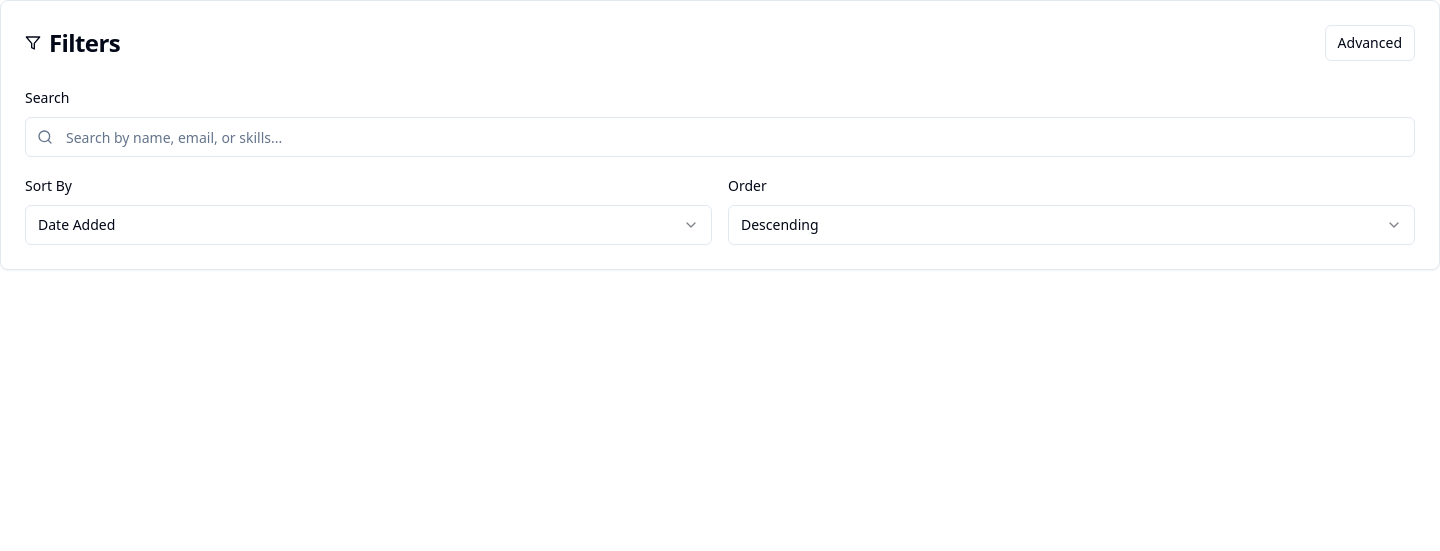
Test: CandidateFilters › clears all filters
Type "test" into the field with placeholder "Search by name, email, or skills...".
click(720, 137); type("test")  # box [25,117,1415,157]
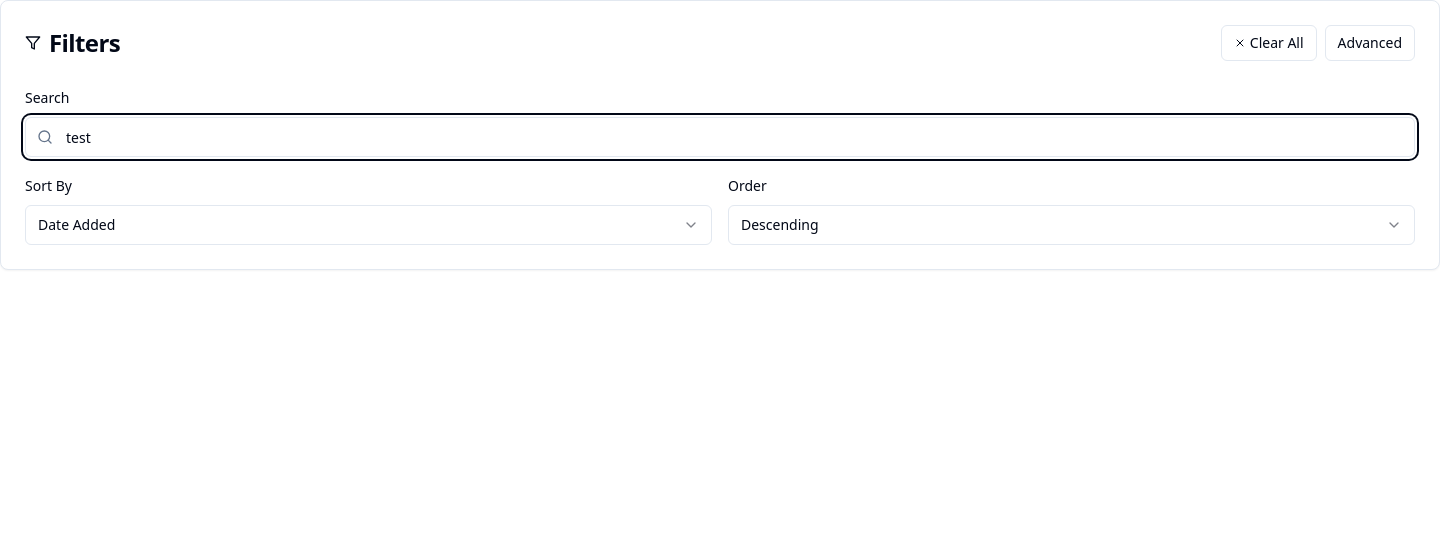
Show advanced filters and add more
Click the button "Advanced".
click(1370, 43)  # box [1325,25,1415,61]
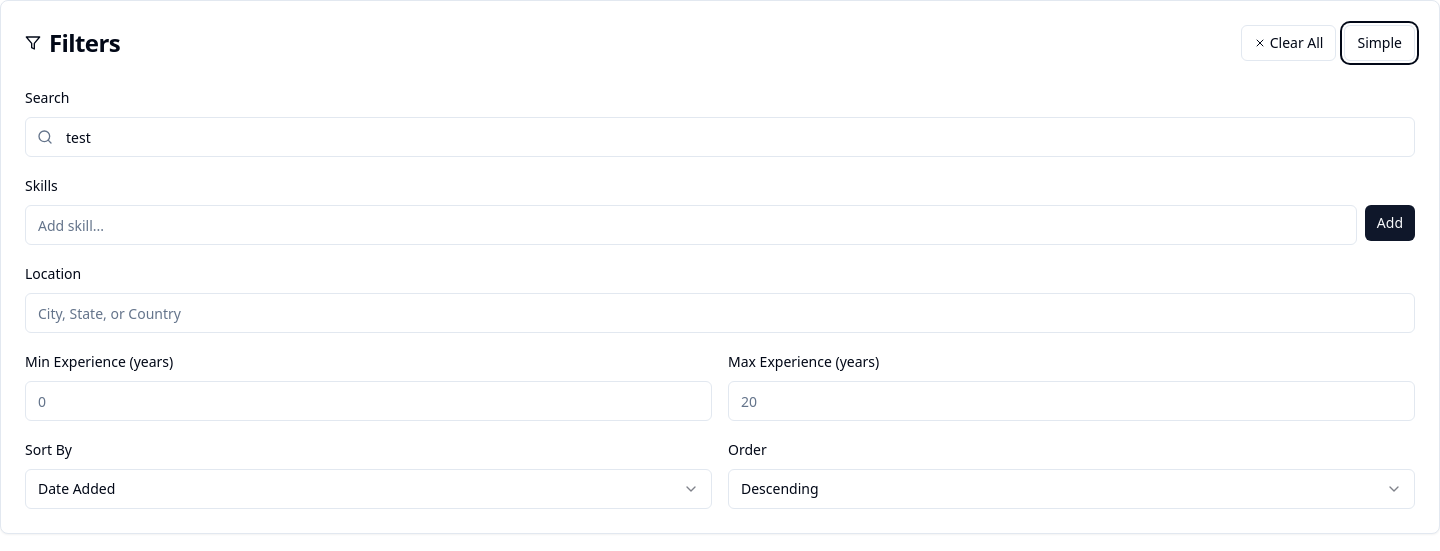
Type "Boston" into the field with placeholder "City, State, or Country".
click(720, 313); type("Boston")  # box [25,293,1415,333]
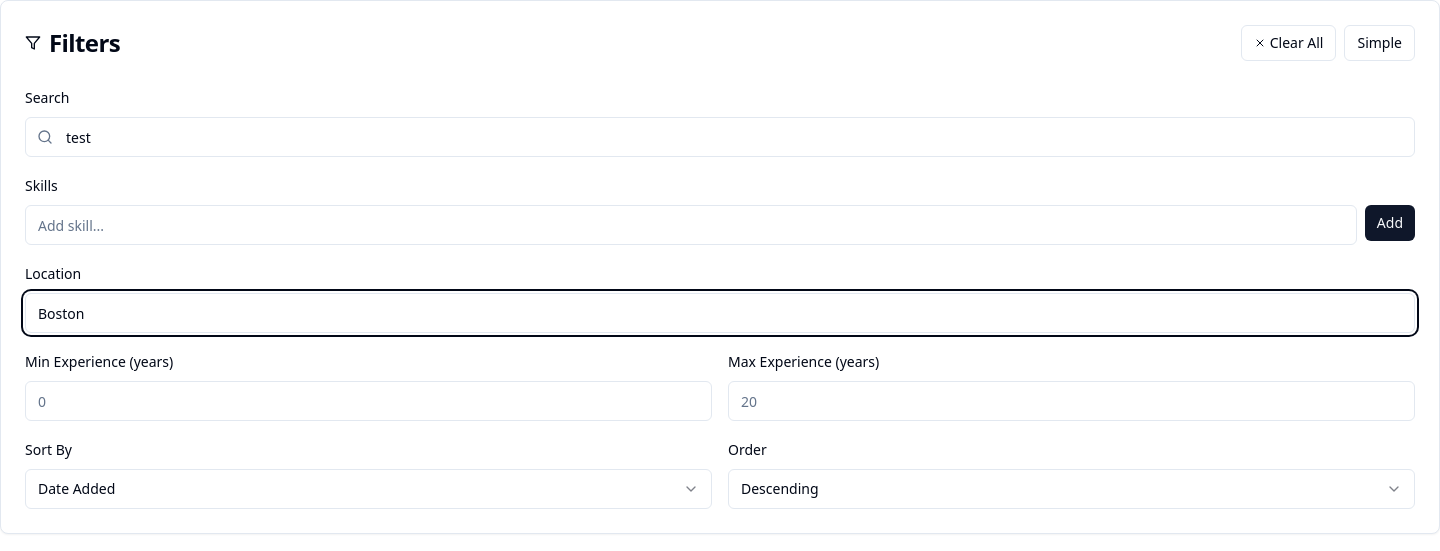
Clear all filters
Click the button "Clear All".
click(1289, 43)  # box [1241,25,1336,61]
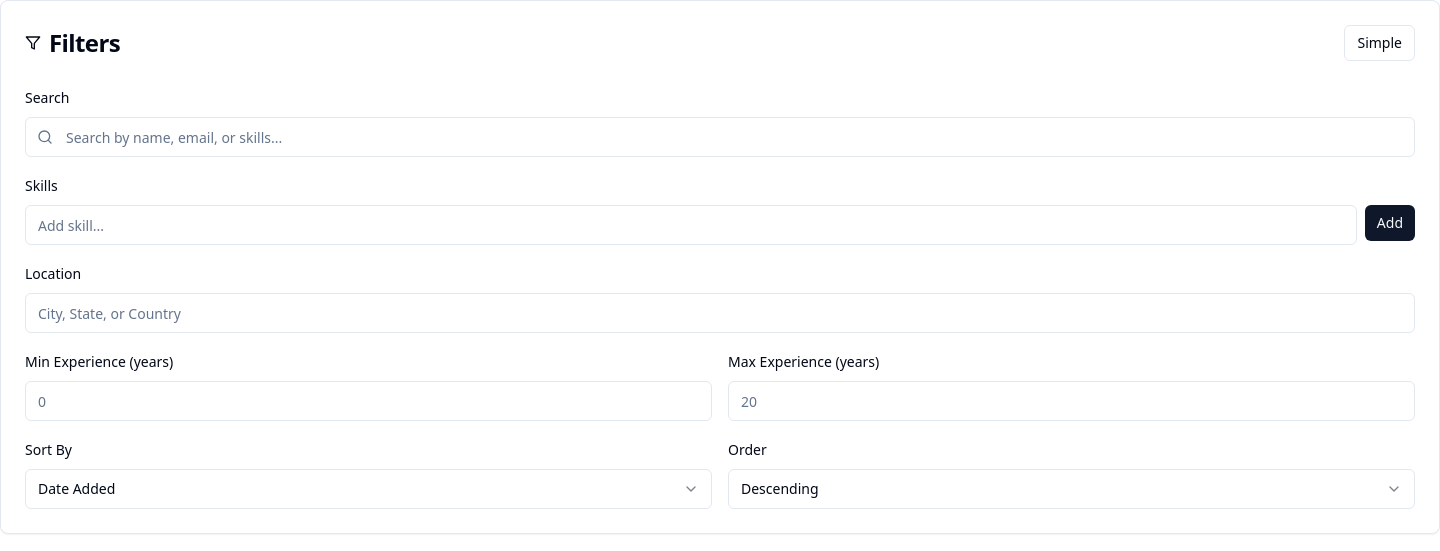
Check: the field with placeholder "Search by name, email, or skills..." is empty, box [25,117,1415,157]
Check: the field with placeholder "City, State, or Country" is empty, box [25,293,1415,333]
